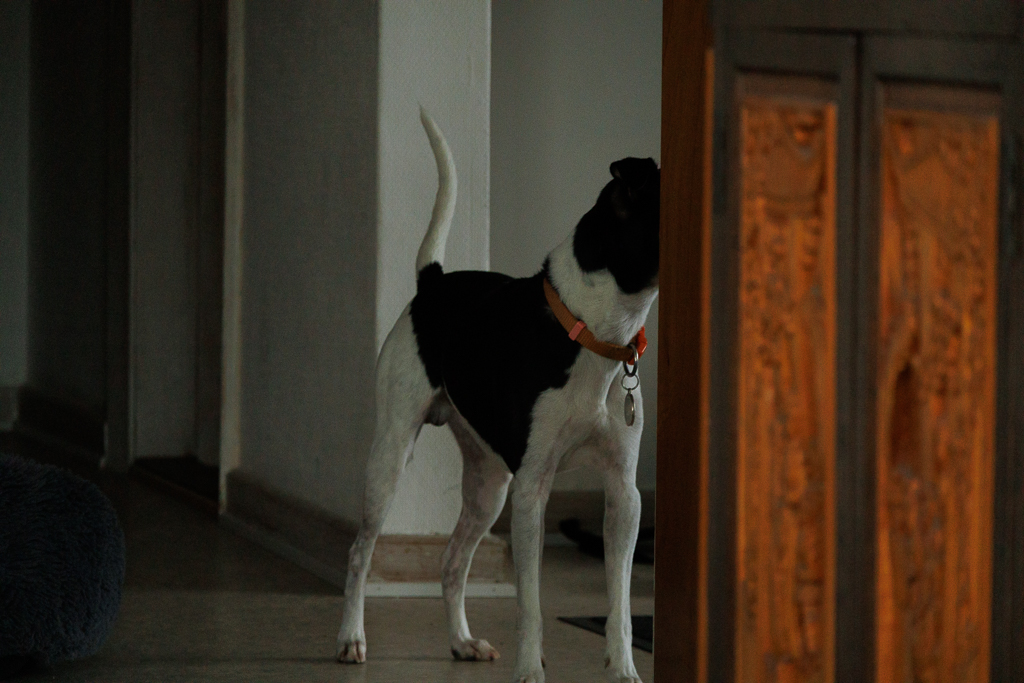Dog: (330, 99, 669, 683)
